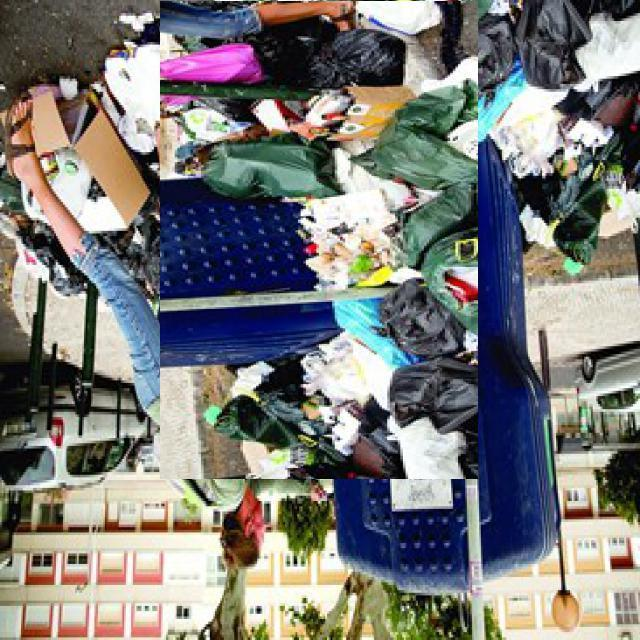Trashbag: (386, 352, 481, 434), (510, 0, 592, 90), (380, 274, 465, 355), (309, 27, 407, 88), (475, 11, 514, 94)
